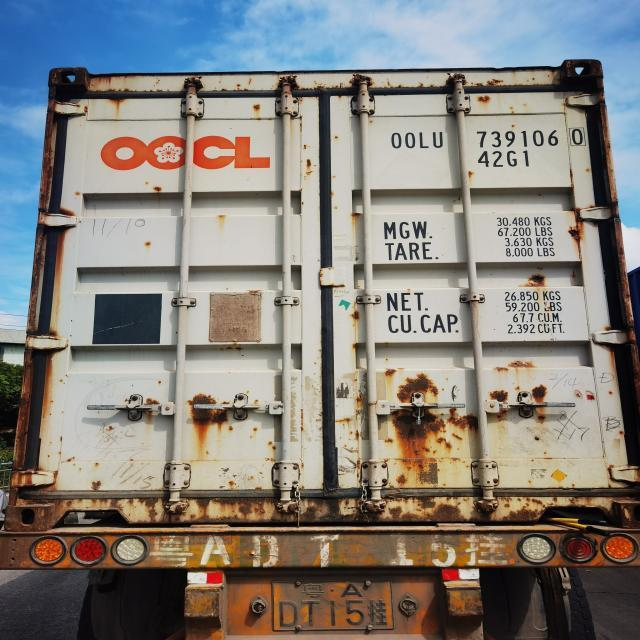ISO: (479, 149, 534, 170)
container_number: (388, 122, 595, 150)
